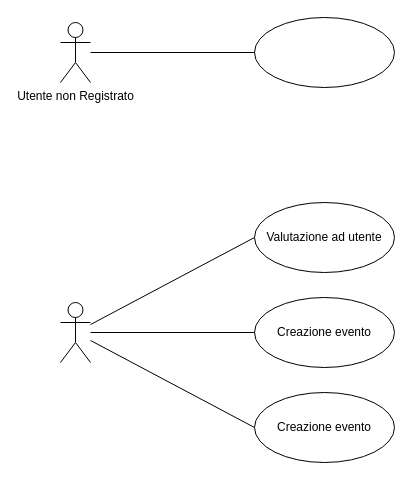
This 412x480 diagram has some shape labels left out. The box of each missing label's shape, as (x1, y1, x2, y2) in pixels:
Registrazione alla piattaforma: (254, 16, 394, 88)
Utente Registrato: (60, 302, 90, 362)
